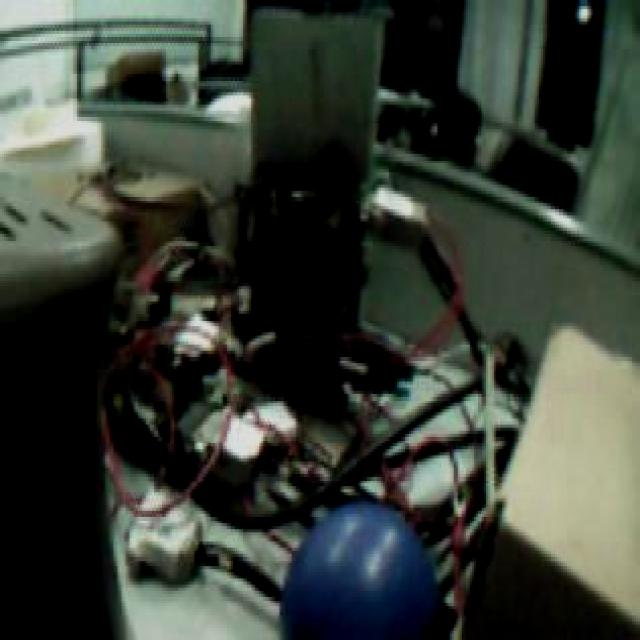BallPurple: (275, 501, 448, 640)
